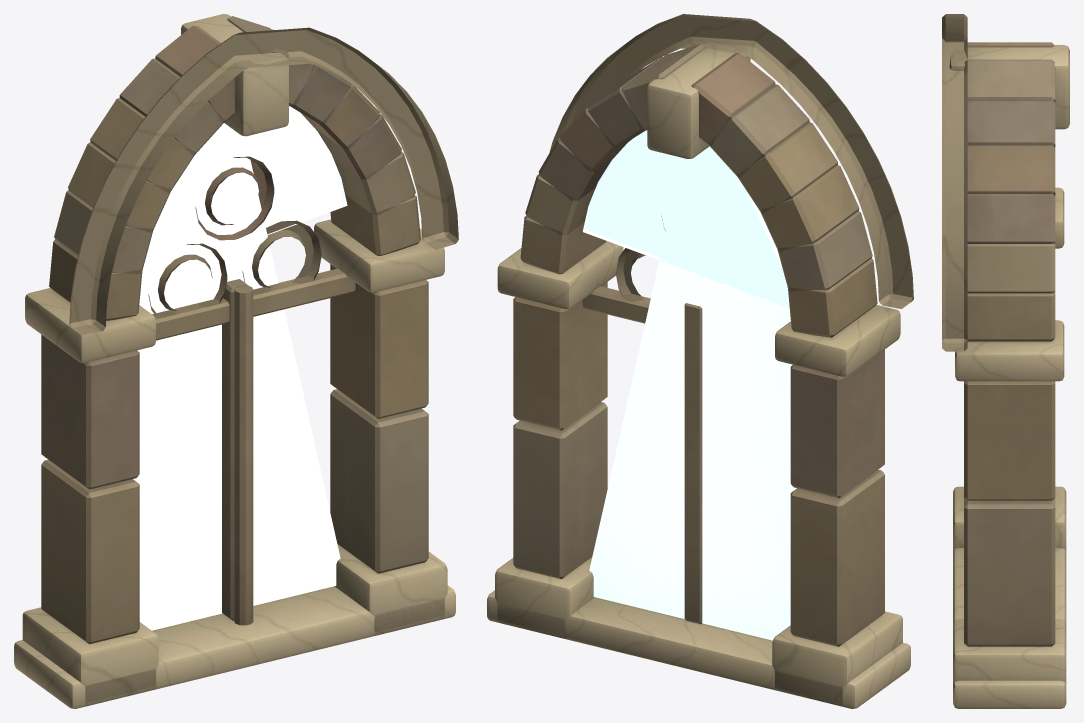
File: arch_window.glb
The picture shows the model from 3 angles, left to right: view 1: azimuth 30°, elevation 25°; view 2: azimuth 150°, elevation 25°; view 3: azimuth 270°, elevation 25°; orthographic projection. The views are drawn at different scales.
Visible parts, largest first — view 1: arch_window; view 2: arch_window; view 3: arch_window.
Part boxes in pixels (box(x1,y1,x2,y2)): arch_window: box(14, 14, 458, 708); arch_window: box(487, 14, 913, 708); arch_window: box(942, 14, 1069, 708).
Size of the model in its own units: 2.3 by 3.6 by 0.7.
2 materials, 2 textured.
